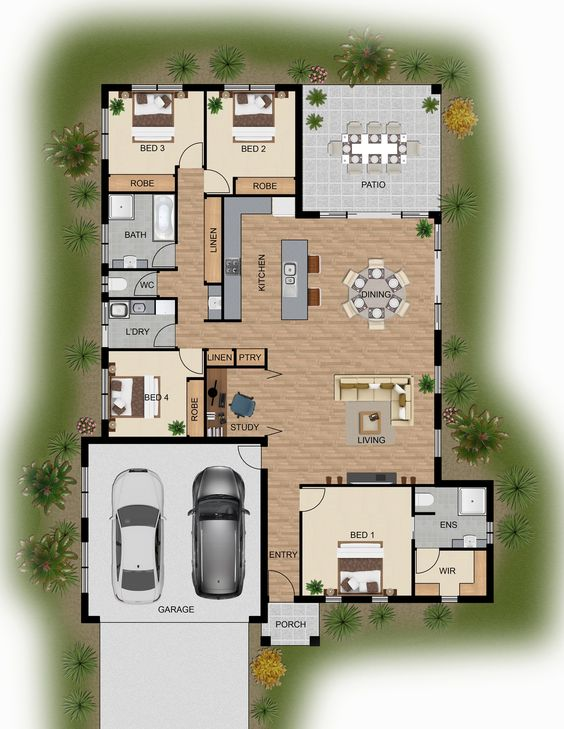door: (133, 270, 161, 296), (148, 320, 176, 346), (176, 350, 204, 376), (233, 443, 261, 469), (302, 485, 330, 511), (414, 548, 442, 574), (177, 140, 203, 165), (207, 168, 233, 193), (150, 241, 176, 266)
room: (299, 484, 415, 604), (100, 83, 206, 193), (203, 83, 302, 196), (101, 348, 208, 443)
window: (99, 107, 109, 159), (99, 222, 109, 264), (132, 83, 182, 91), (224, 83, 274, 91), (101, 368, 109, 418), (80, 466, 88, 516), (80, 541, 88, 591)
